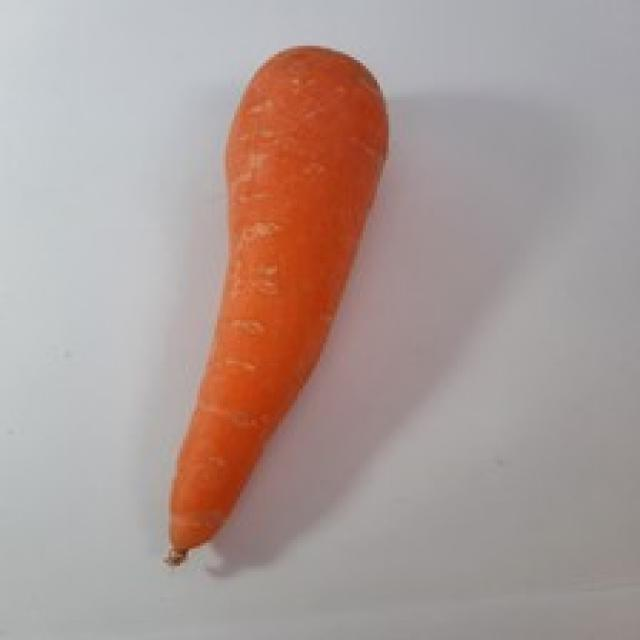carrot: (165, 45, 389, 569)
